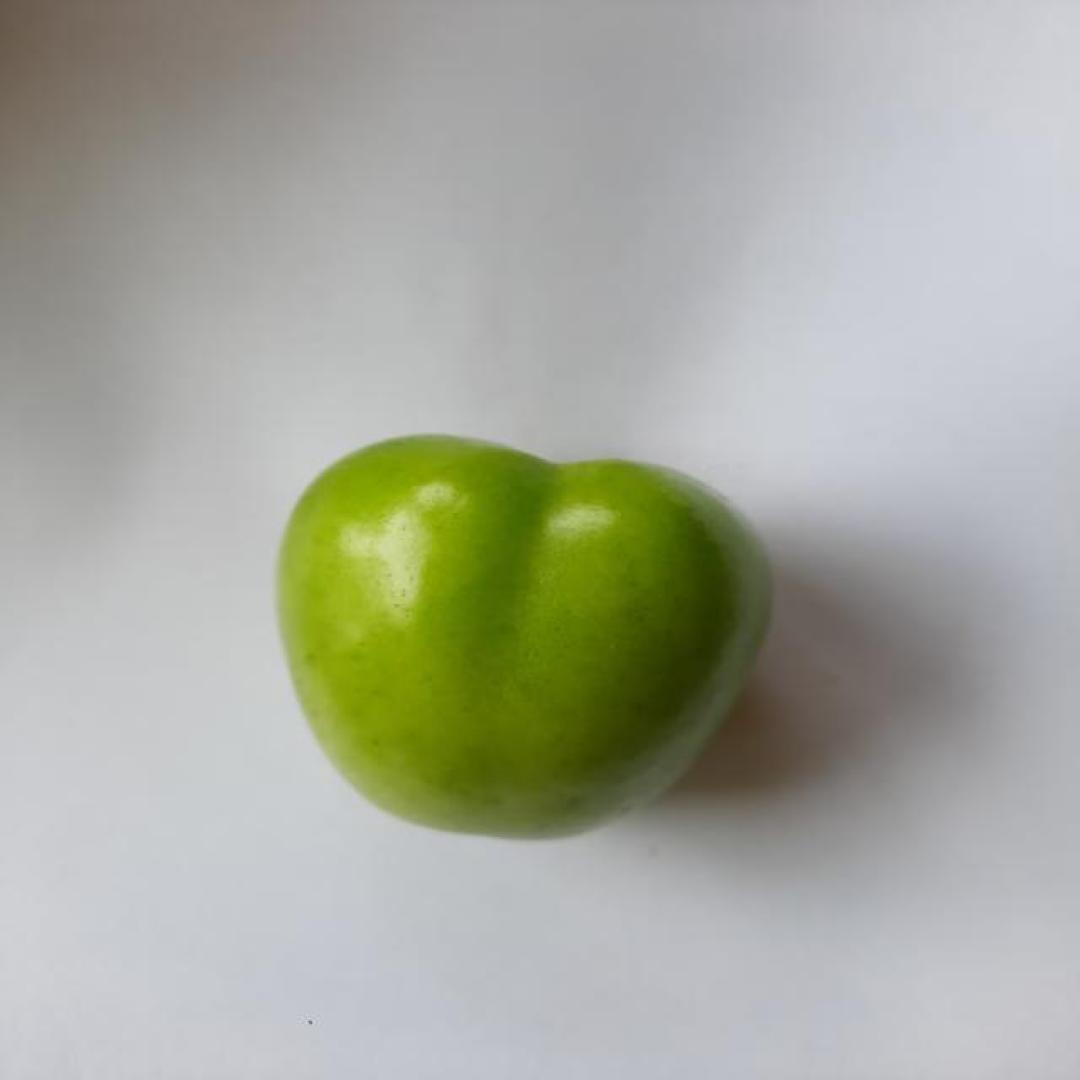mentah: (267, 428, 776, 840)
